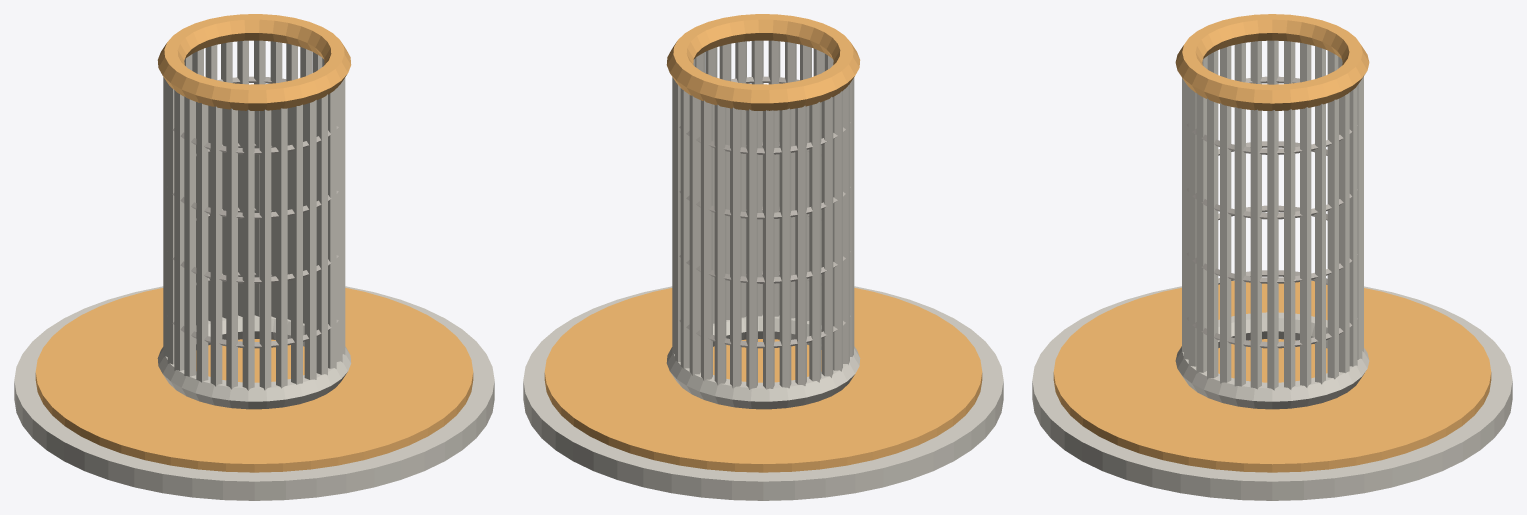
The model's file is ponte.glb.
3 renders of one model, left to right at view 1: azimuth 30°, elevation 25°; view 2: azimuth 150°, elevation 25°; view 3: azimuth 270°, elevation 25°, orthographic.
Visible parts, largest first — view 1: Torus.006; view 2: Torus.006; view 3: Torus.006.
Boxes of the visible parts, <box> form: Torus.006: <box>14,14,494,500</box>; Torus.006: <box>523,14,1003,500</box>; Torus.006: <box>1032,14,1512,500</box>.
Bounding box in the file's own units: 2.7 × 2.15 × 2.7.
